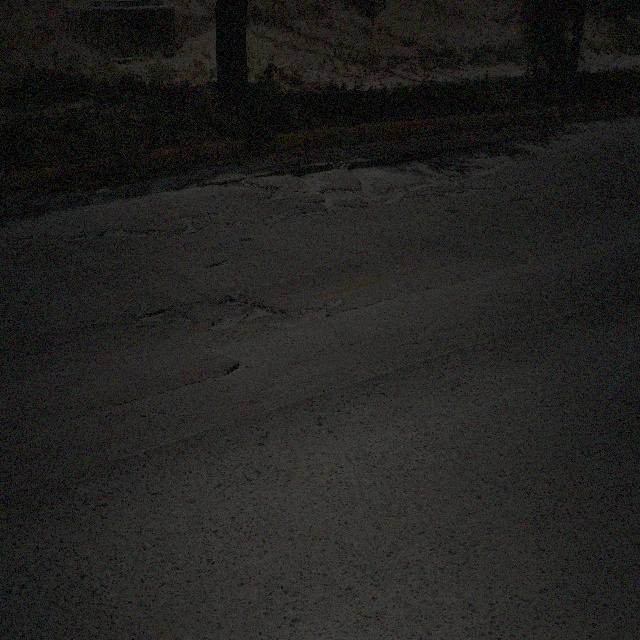pothole: (349, 153, 407, 210), (275, 298, 332, 331), (211, 299, 280, 324), (318, 185, 366, 211), (137, 308, 195, 328), (294, 162, 328, 196), (102, 225, 162, 242), (441, 179, 478, 199), (214, 174, 258, 189), (174, 214, 200, 238), (225, 357, 250, 377), (264, 185, 287, 203), (205, 255, 234, 269)
